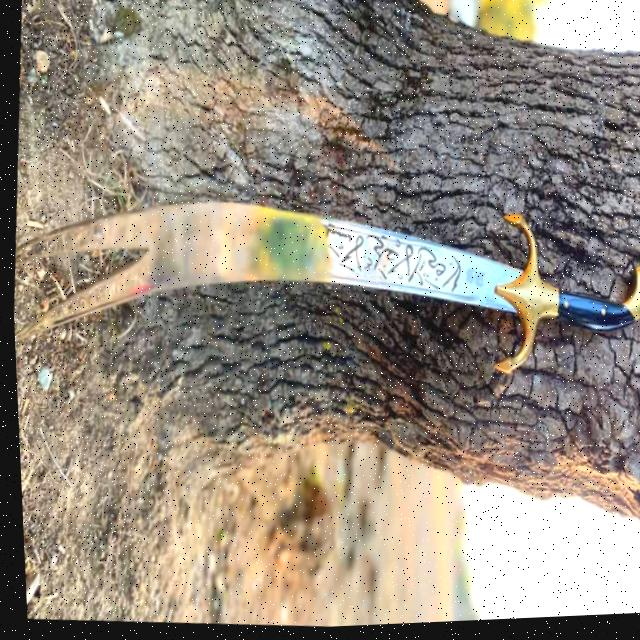knife: (6, 128, 640, 435)
